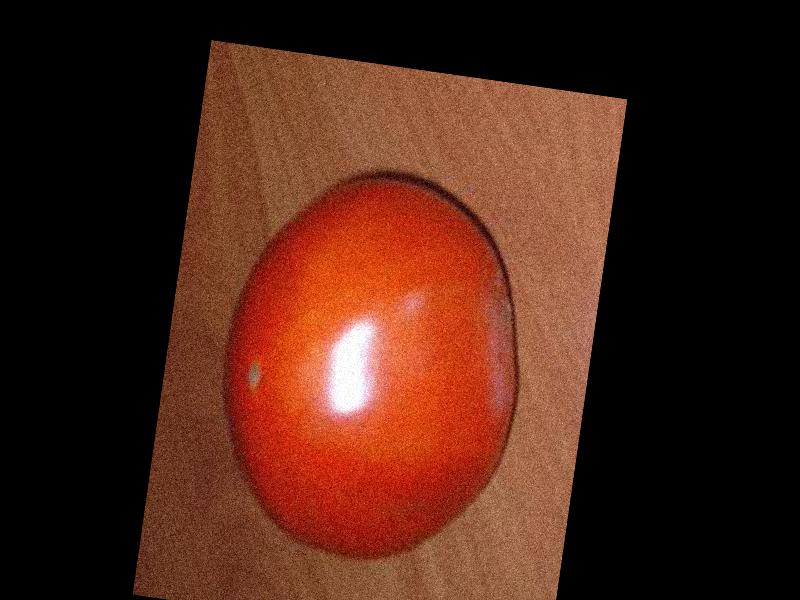Tomato: (197, 152, 543, 581)
